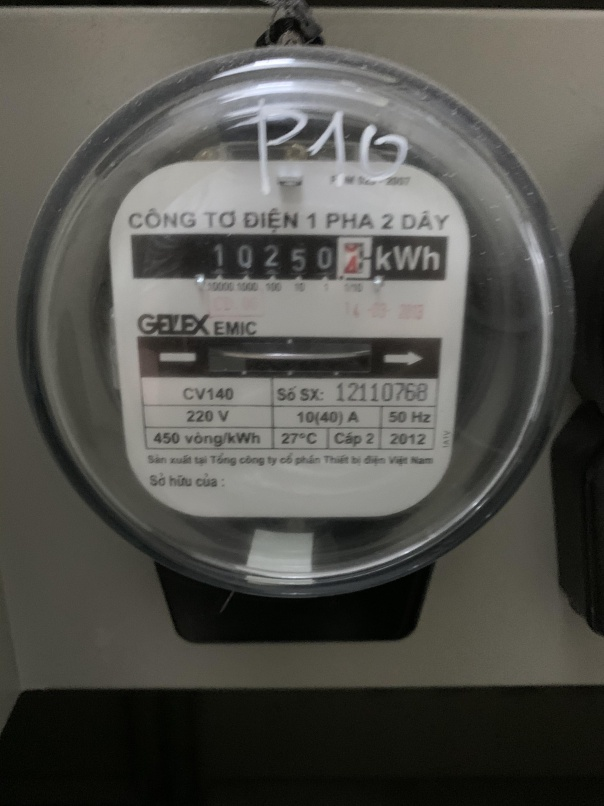counter: (133, 234, 449, 282)
electricity_meter: (20, 47, 570, 600)
